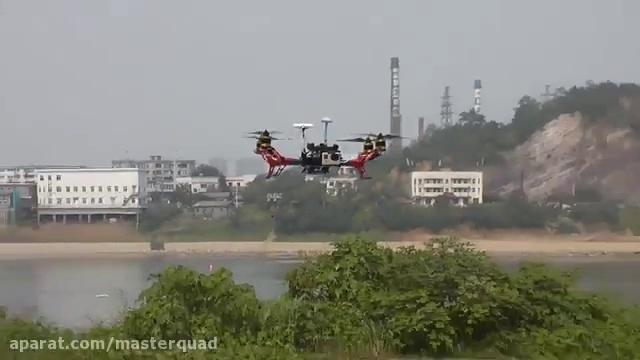drone: (240, 114, 410, 180)
